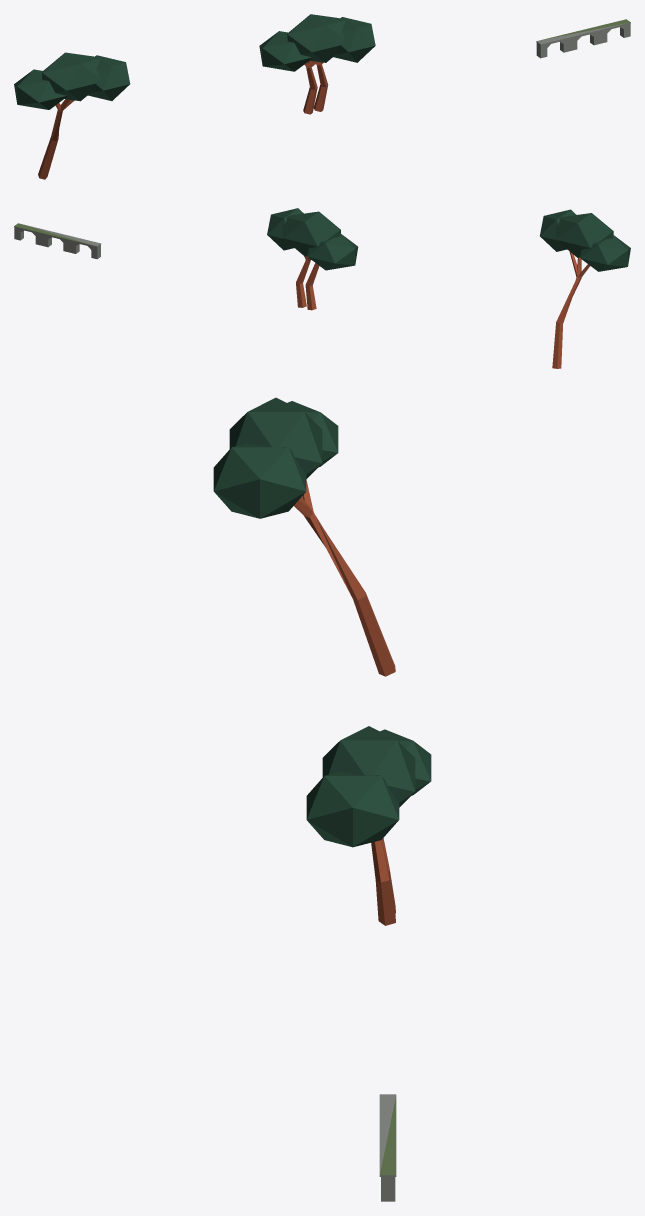
The model's file is pnw-identity.glb.
The picture shows the model from 3 angles, top to bottom: view 1: azimuth 30°, elevation 25°; view 2: azimuth 150°, elevation 25°; view 3: azimuth 270°, elevation 25°; orthographic projection. The views are drawn at different scales.
Visible parts, largest first — view 1: pnw_madrone_b_body, pnw_madrone_a_body, gorge_guard_wall_body; view 2: pnw_madrone_a_body, pnw_madrone_b_body, gorge_guard_wall_body; view 3: pnw_madrone_a_body, pnw_madrone_b_body, gorge_guard_wall_body.
Boxes of the visible parts, x1,y1,x2,y2 form: pnw_madrone_b_body: (259, 14, 375, 114); pnw_madrone_a_body: (14, 52, 130, 179); gorge_guard_wall_body: (536, 19, 630, 58); pnw_madrone_a_body: (540, 209, 630, 368); pnw_madrone_b_body: (267, 208, 358, 310); gorge_guard_wall_body: (14, 223, 101, 259); pnw_madrone_a_body: (213, 397, 395, 676); pnw_madrone_b_body: (306, 726, 431, 925); gorge_guard_wall_body: (379, 1094, 396, 1201).
Size of the model in its own units: 42.42 by 9.03 by 6.79.
